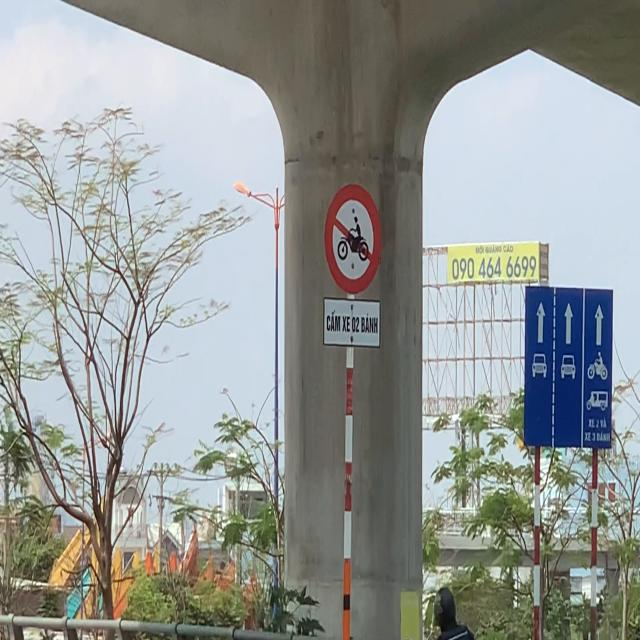Cam con lai: (325, 180, 383, 292)
